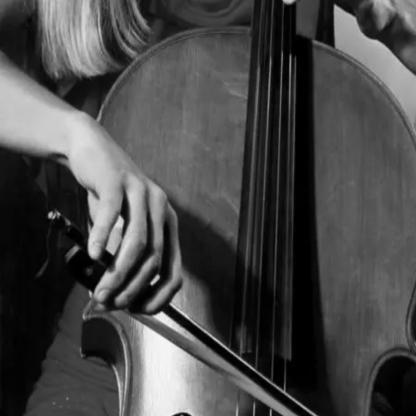good: (75, 142, 191, 328)
